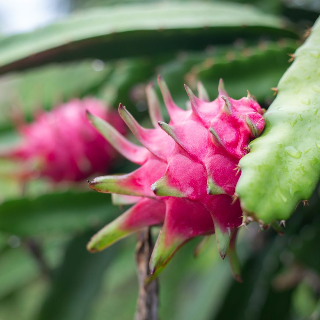thanh_long: (97, 88, 252, 255)
